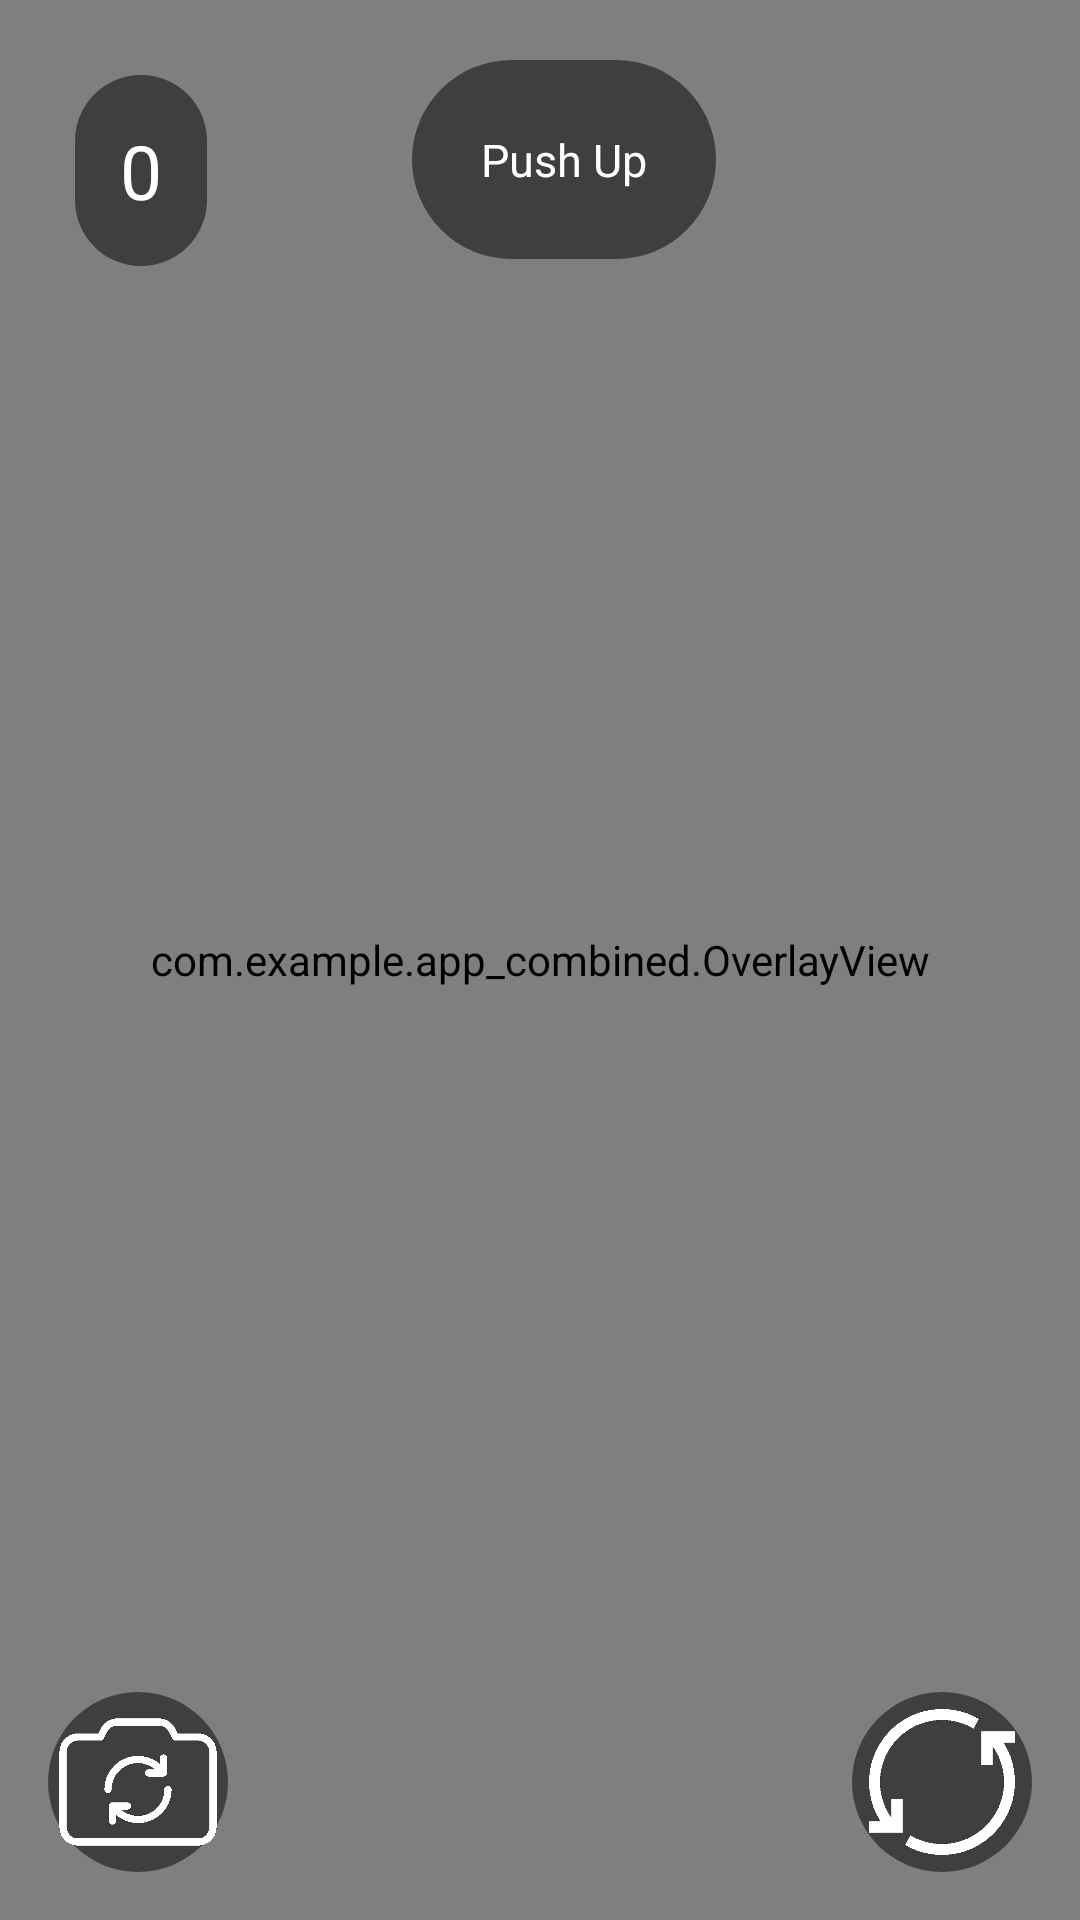

Icons on this 1080px x 1920px Android screen, each with its box as detection(x1, y1, x2, y2):
camera switch: detection(48, 1692, 228, 1872)
